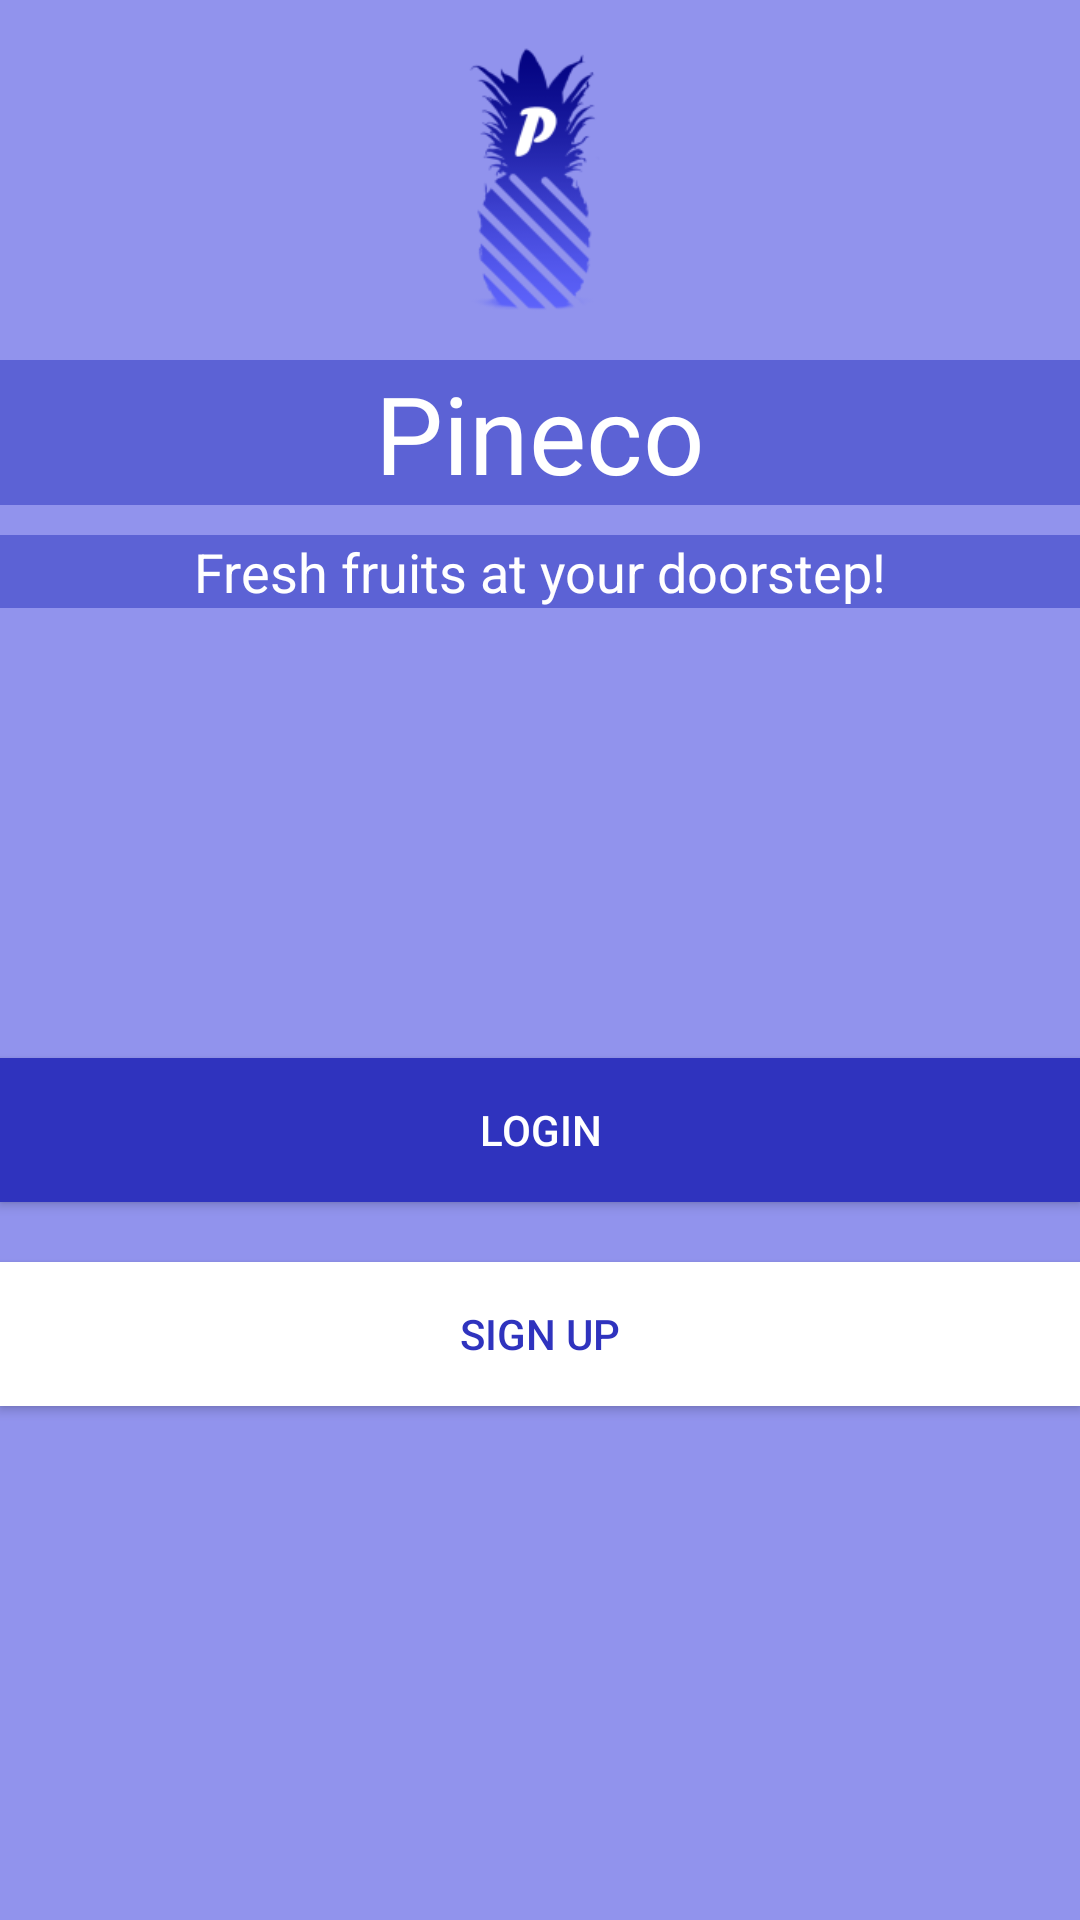

Named icons in this screenshot (1080px×1920px) and their centers, [x,y]:
fruit: [533,178]
